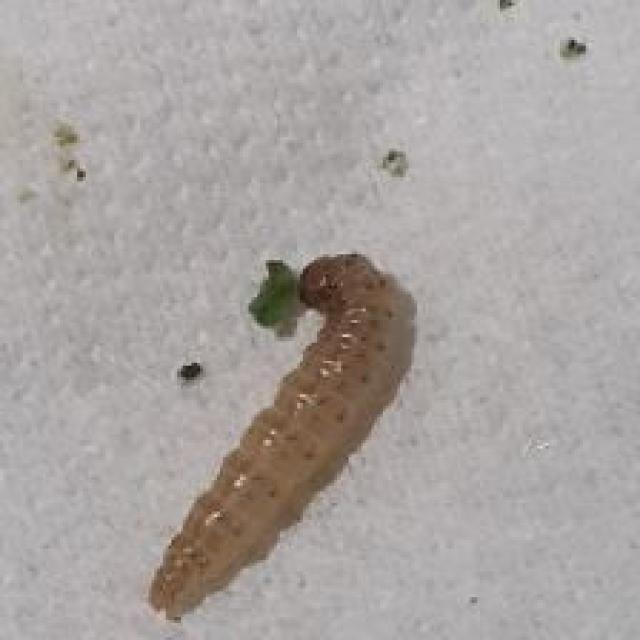white mucus: (133, 219, 460, 615)
